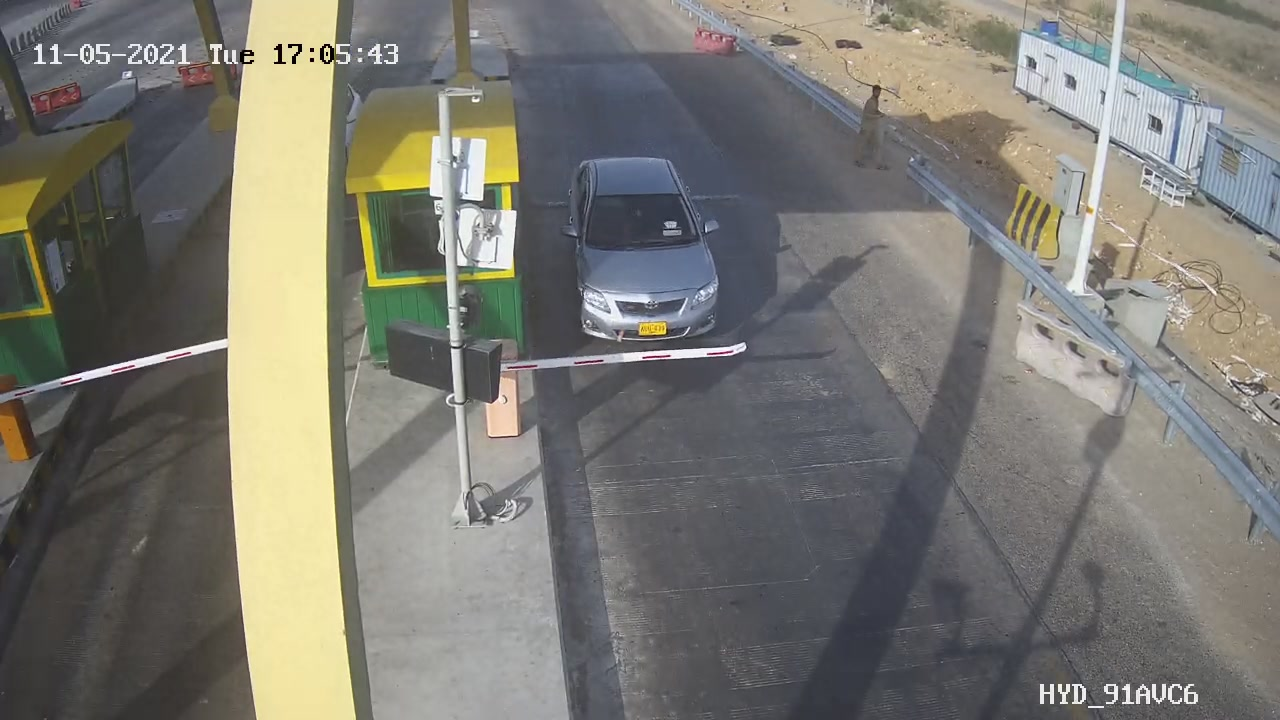F1: (544, 135, 740, 361)
